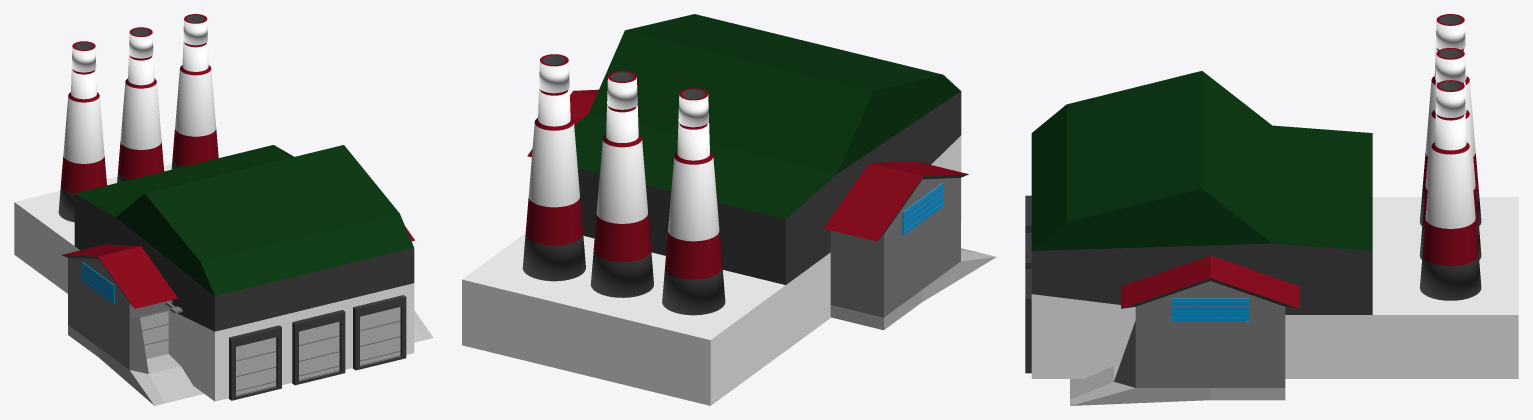
File: buildingsPart4.fbx
3 renders of one model, left to right at view 1: azimuth 30°, elevation 25°; view 2: azimuth 150°, elevation 25°; view 3: azimuth 270°, elevation 25°, orthographic. The views are drawn at different scales.
Visible parts, largest first — view 1: Cube.003, Cube.002; view 2: Cube.003, Cube.002; view 3: Cube.003, Cube.002.
Part boxes in pixels (left/top/right/bottom): Cube.003: left=14, top=14, right=414, bottom=401; Cube.002: left=61, top=227, right=433, bottom=405; Cube.003: left=462, top=14, right=961, bottom=405; Cube.002: left=527, top=89, right=996, bottom=330; Cube.003: left=1025, top=14, right=1518, bottom=378; Cube.002: left=1070, top=255, right=1299, bottom=405.
Bounding box in the file's own units: 3870 × 3026 × 4840.
1 material, 1 textured.
